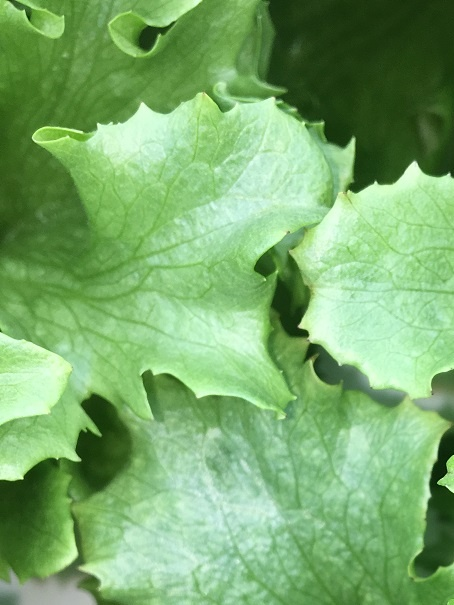tipburn: (332, 181, 357, 205), (39, 399, 59, 422), (192, 85, 214, 104), (422, 383, 440, 401), (293, 320, 306, 333)
